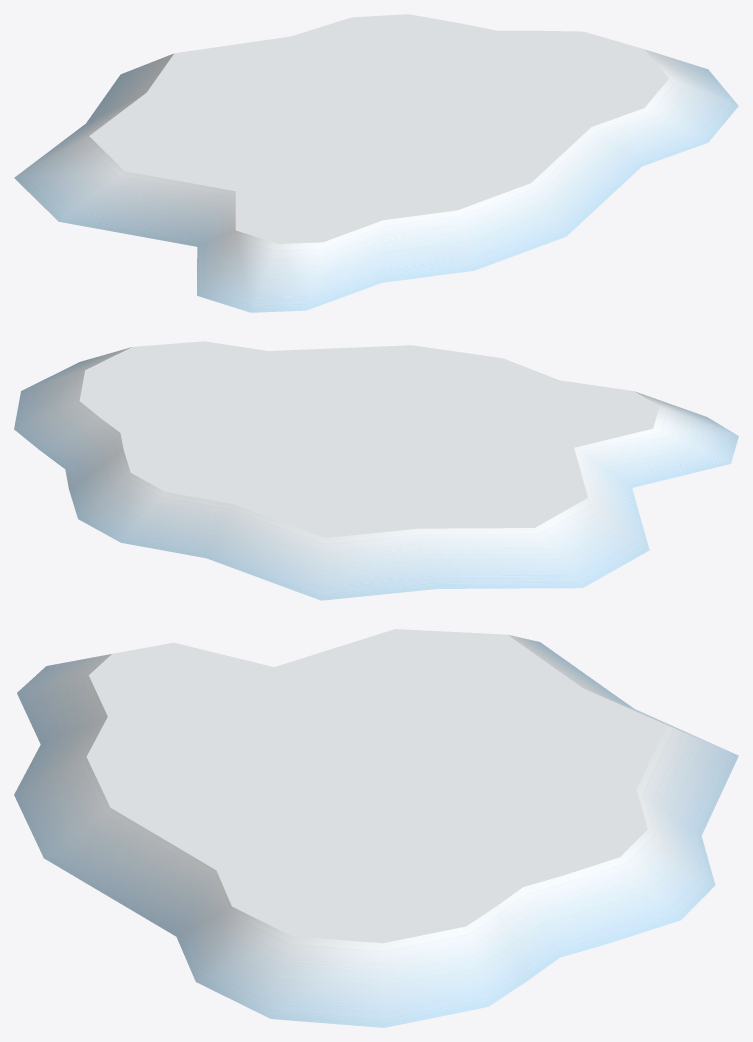
Rendered from snow-flat.glb.
3 views of the same model, one above another, from view 1: azimuth 30°, elevation 25°; view 2: azimuth 150°, elevation 25°; view 3: azimuth 270°, elevation 25° (orthographic). The views are drawn at different scales.
Parts seen in each view (by area): view 1: snow-flat; view 2: snow-flat; view 3: snow-flat.
Part boxes in pixels (x1=…): snow-flat: x1=14, y1=14, x2=738, y2=312; snow-flat: x1=14, y1=341, x2=738, y2=600; snow-flat: x1=14, y1=629, x2=738, y2=1027.
Size of the model in its own units: 1.86 by 0.1 by 1.45.
1 material, 1 textured.
